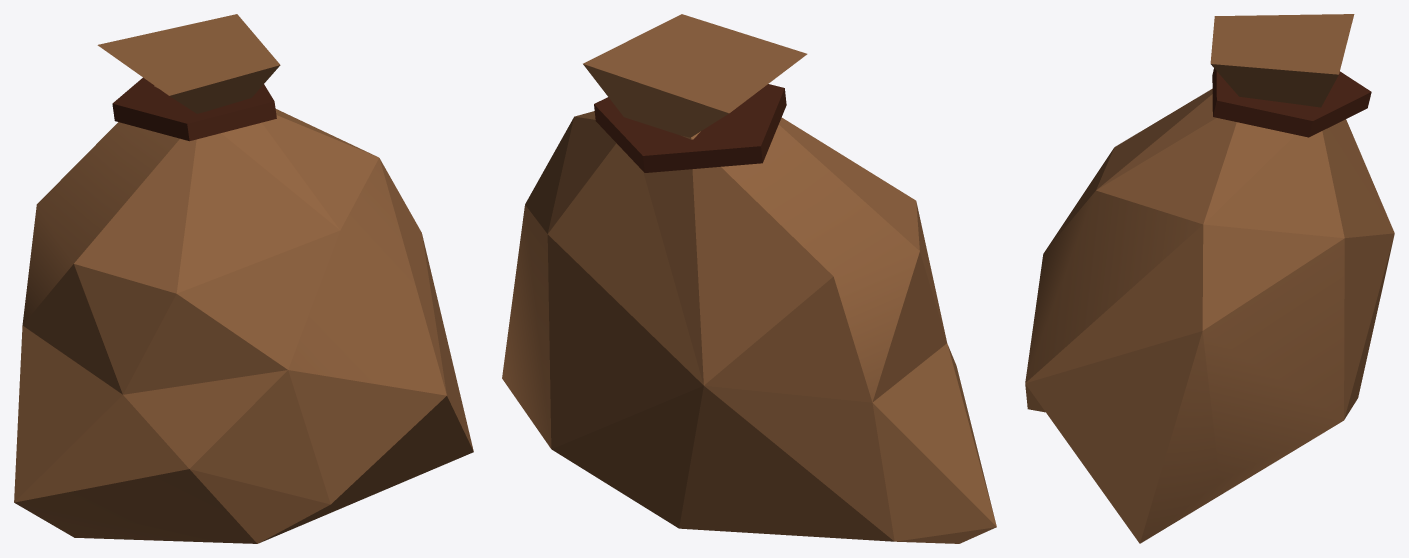
File: Sack3.fbx
3 views of the same model, side by side, from view 1: azimuth 30°, elevation 25°; view 2: azimuth 150°, elevation 25°; view 3: azimuth 270°, elevation 25° (orthographic). The views are drawn at different scales.
Parts seen in each view (by area): view 1: Sack3; view 2: Sack3; view 3: Sack3.
Boxes of the visible parts, bbox=[...] form: Sack3: bbox=[14, 14, 473, 543]; Sack3: bbox=[502, 14, 996, 543]; Sack3: bbox=[1025, 14, 1394, 543].
Bounding box in the file's own units: 32.53 × 31 × 24.33.
